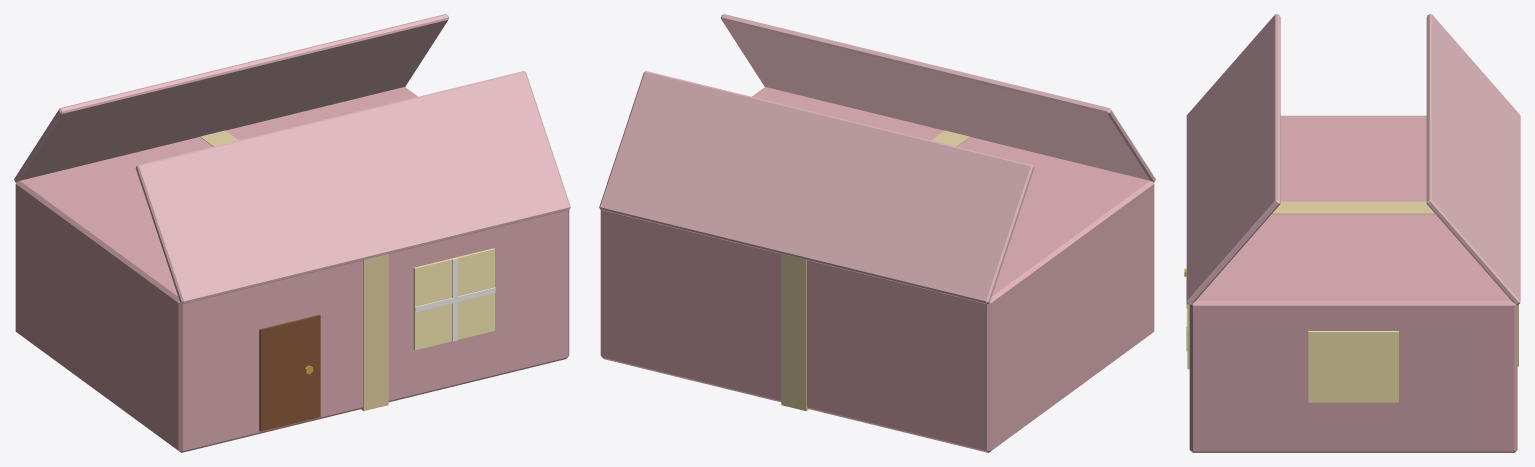
Rendered from rental_couple.glb.
3 renders of one model, left to right at view 1: azimuth 30°, elevation 25°; view 2: azimuth 150°, elevation 25°; view 3: azimuth 270°, elevation 25°, orthographic.
Parts seen in each view (by area): view 1: rental_couple_Body; view 2: rental_couple_Body; view 3: rental_couple_Body.
Boxes of the visible parts, x1,y1,x2,y2 form: rental_couple_Body: [14, 14, 570, 452]; rental_couple_Body: [599, 14, 1155, 452]; rental_couple_Body: [1184, 14, 1520, 452].
Size of the model in its own units: 0.8 by 0.5 by 0.6.
